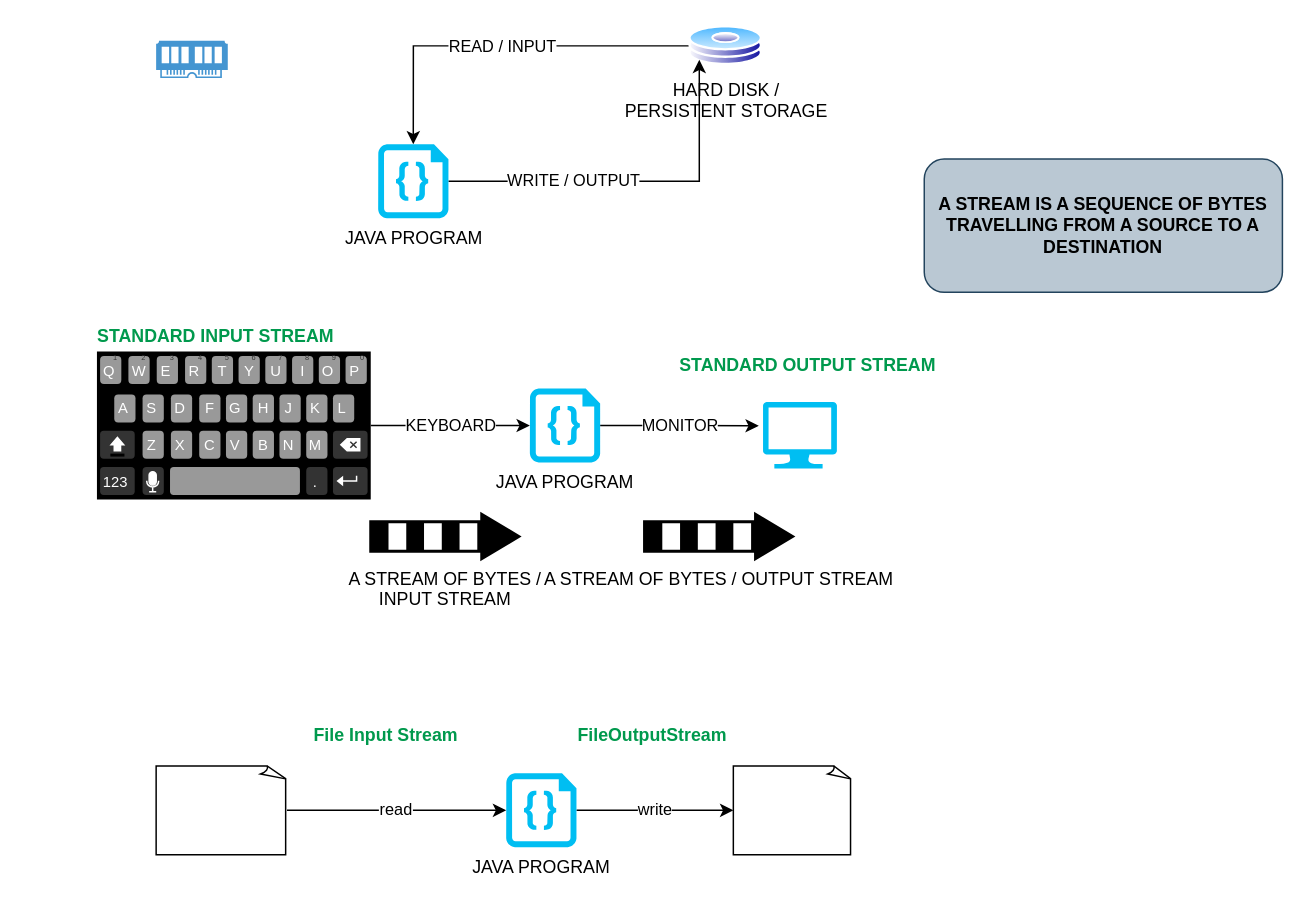
The diagram is 1310 pixels wide and 903 high, and some of its shapes have lost their labels. Here are the shapes that lost their labels. From the top down, the centre of each, then its label:
At point 191,58: "RAM / VOLATILE MEMROY / VARIABLES".
At point 221,809: "message.txt".
At point 792,809: "File message.txt".
